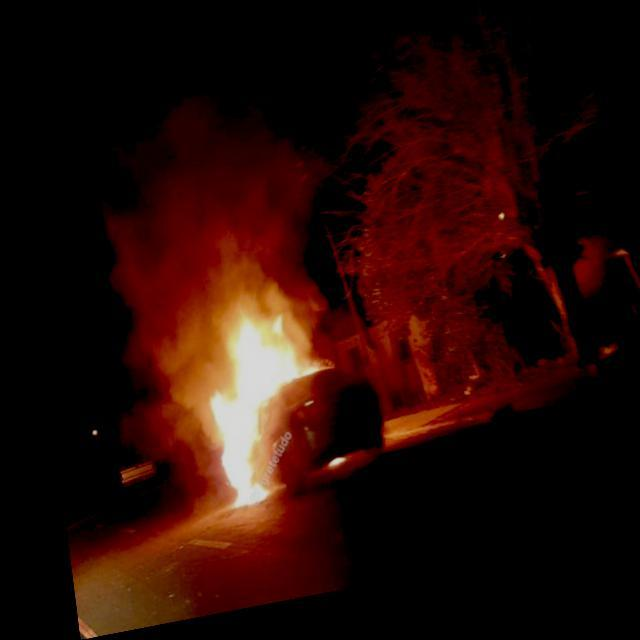Fire: (192, 303, 329, 513)
